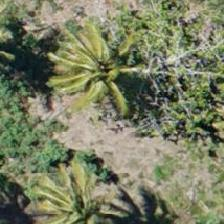coconut_tree: (67, 23, 157, 113), (34, 167, 124, 223)
